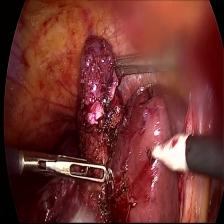Grasper: (23, 148, 111, 188), (108, 36, 158, 88)
Hook: (144, 130, 188, 176)
